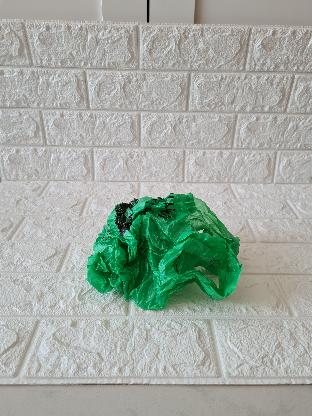Plastic Bag: (86, 190, 244, 312)
